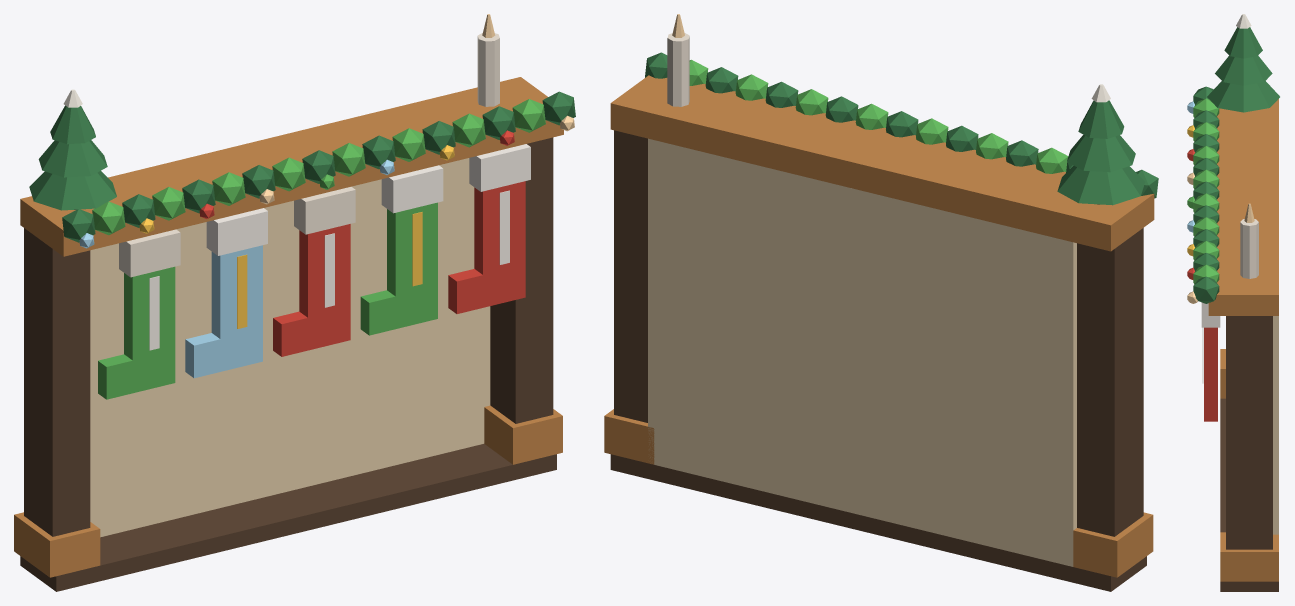
Rendered from CatCafe_Decor_StockingWall.glb.
The picture shows the model from 3 angles, left to right: view 1: azimuth 30°, elevation 25°; view 2: azimuth 150°, elevation 25°; view 3: azimuth 270°, elevation 25°; orthographic projection. The views are drawn at different scales.
Visible parts, largest first — view 1: CatCafe_Decor_StockingWall, CatCafe_Decor_StockingWall_Glow; view 2: CatCafe_Decor_StockingWall; view 3: CatCafe_Decor_StockingWall, CatCafe_Decor_StockingWall_Glow.
Boxes of the visible parts, left/top/right/bottom form: CatCafe_Decor_StockingWall: left=14, top=32, right=575, bottom=591; CatCafe_Decor_StockingWall_Glow: left=79, top=14, right=574, bottom=248; CatCafe_Decor_StockingWall: left=604, top=32, right=1158, bottom=591; CatCafe_Decor_StockingWall: left=1193, top=14, right=1279, bottom=591; CatCafe_Decor_StockingWall_Glow: left=1187, top=101, right=1254, bottom=303.
Bounding box in the file's own units: 4.13 × 3.69 × 0.796.
Materials: 1 (1 with a texture image).
